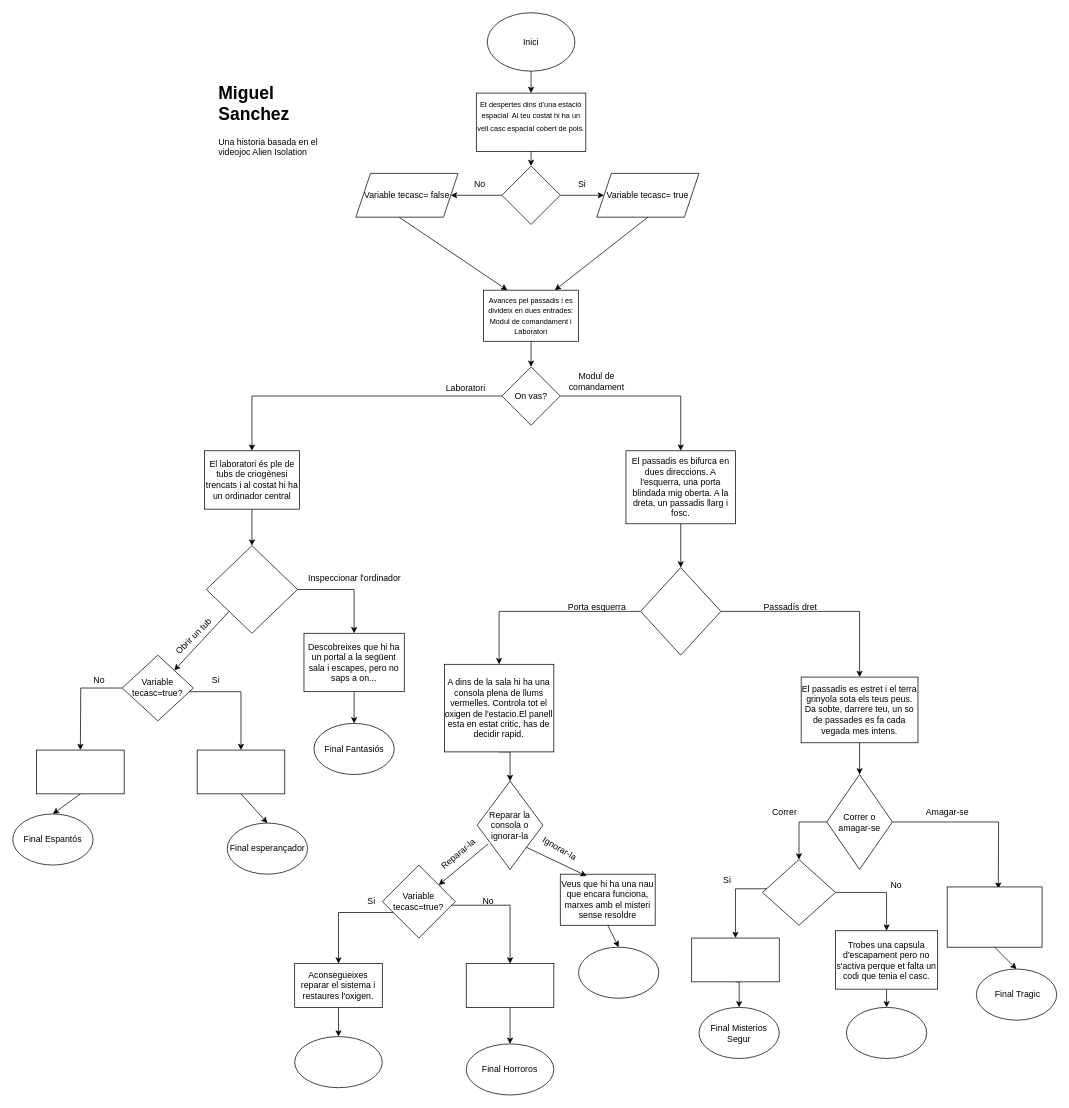
Image size: 1069x1108. Some labels were removed from this diagram. Each missing label, with the centre of its shape:
Agafes el casc?: [530,194]
Despertes a un cientific que et guia cap a la sortida: [240,771]
Els gasos toxics et deixen sense aire.: [510,985]
Final desesperançador: [886,1032]
Final Heroic: [338,1062]
Final Neutre: [618,972]
L'experiment alliberat et devora: [80,771]
Obres un tub o inspeccionas l'ordinador?: [252,589]
Porta esquerra o passadis dret: [680,611]
Sents els passos d'una "cosa misteriosa" Una criatura alienígena et captura: [994,916]
Trobes una capsula d'escapament i l'actives aamb un codi que tenia el casc.: [735,959]
Variable tecasc=true: [798,892]
